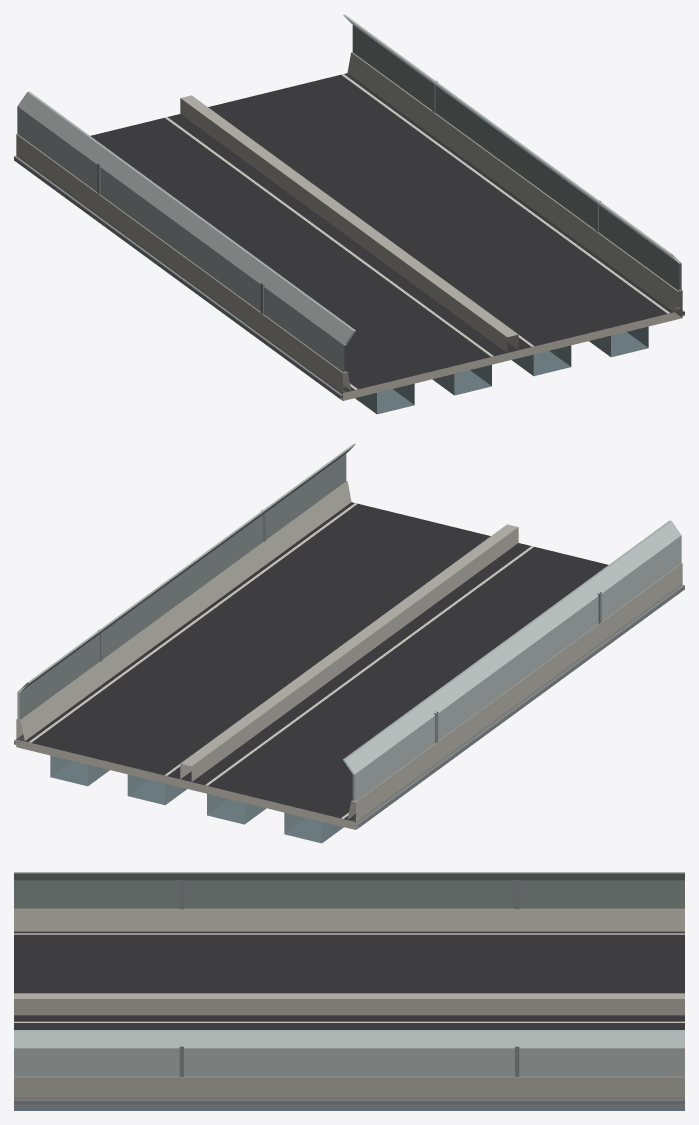
File: expressway_deck_segment.glb
3 views of the same model, one above another, from view 1: azimuth 30°, elevation 25°; view 2: azimuth 150°, elevation 25°; view 3: azimuth 270°, elevation 25° (orthographic). The views are drawn at different scales.
Visible parts, largest first — view 1: expressway_deck_segment; view 2: expressway_deck_segment; view 3: expressway_deck_segment.
Part boxes in pixels (bbox=[...]): expressway_deck_segment: bbox=[14, 14, 684, 414]; expressway_deck_segment: bbox=[14, 443, 684, 843]; expressway_deck_segment: bbox=[14, 872, 684, 1110].
Bounding box in the file's own units: 18.24 × 4.5 × 30.
1 material, 1 textured.
